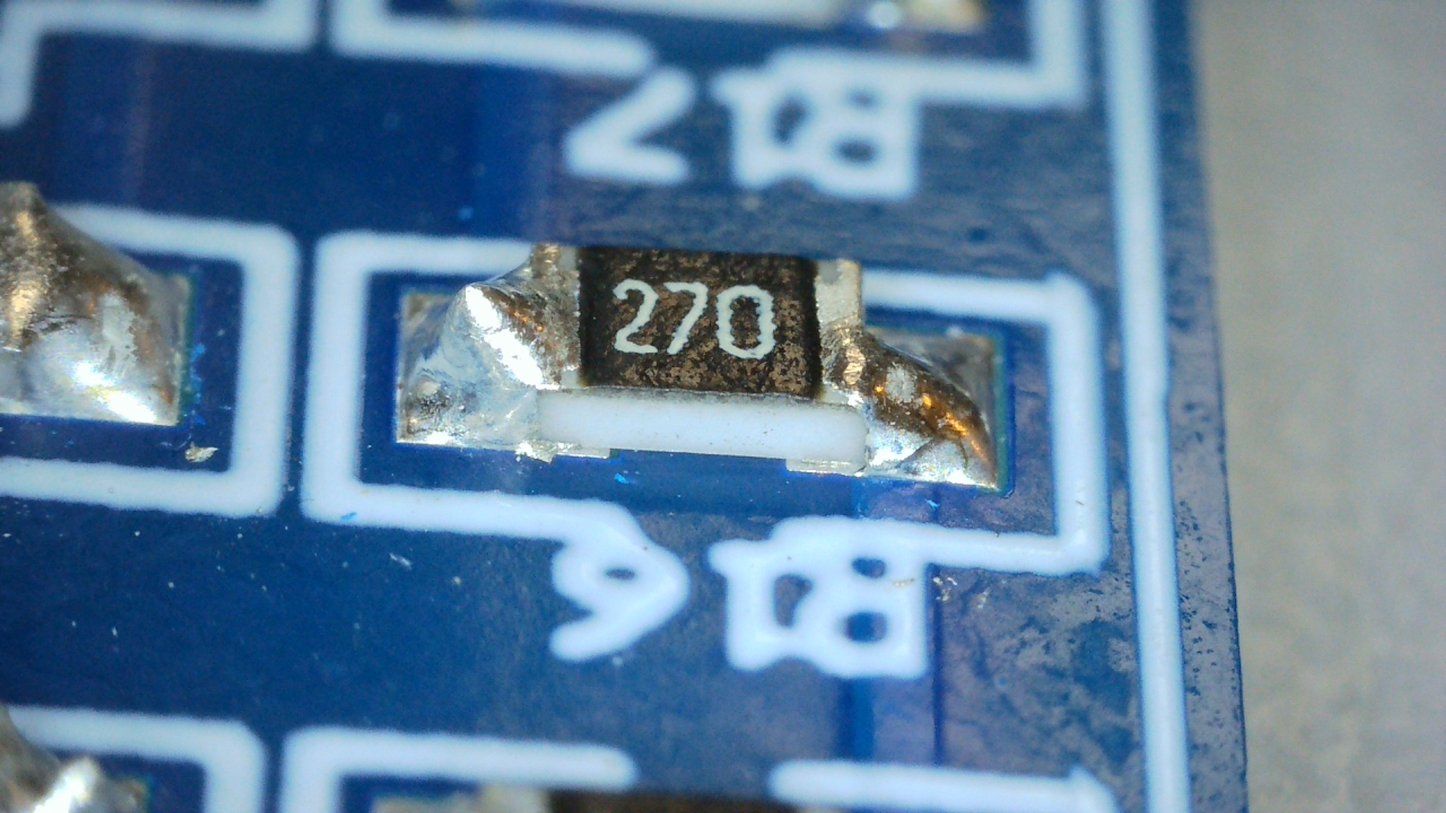NG: (818, 262, 998, 486), (422, 263, 576, 450)
